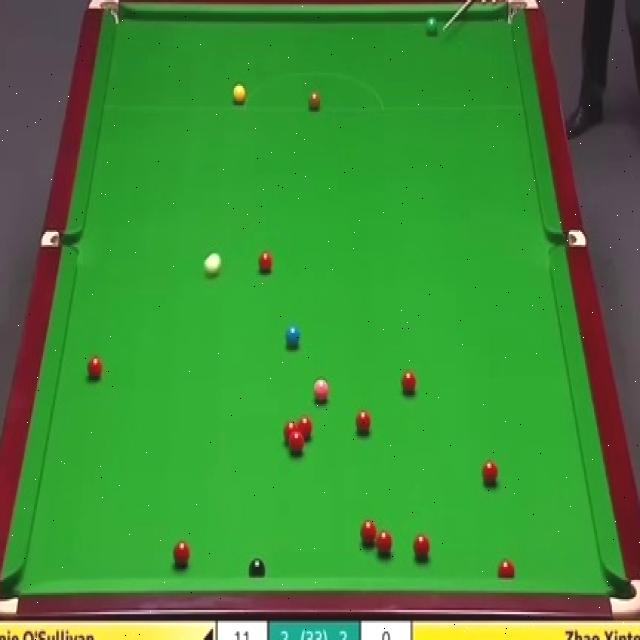black-ball: (248, 555, 267, 579)
blue-ball: (284, 325, 300, 351)
brown-ball: (306, 88, 321, 113)
green-ball: (423, 16, 440, 37)
pink-ball: (313, 374, 330, 403)
red-ball: (375, 528, 394, 560), (86, 354, 105, 384), (400, 369, 418, 399), (412, 534, 430, 562), (360, 518, 377, 547), (480, 458, 497, 486), (354, 409, 371, 436), (174, 540, 190, 566), (298, 416, 313, 443), (258, 250, 274, 275), (498, 558, 515, 579), (290, 434, 304, 455), (284, 421, 298, 442)
white-ball: (204, 250, 223, 278)
yellow-ball: (230, 83, 246, 104)
